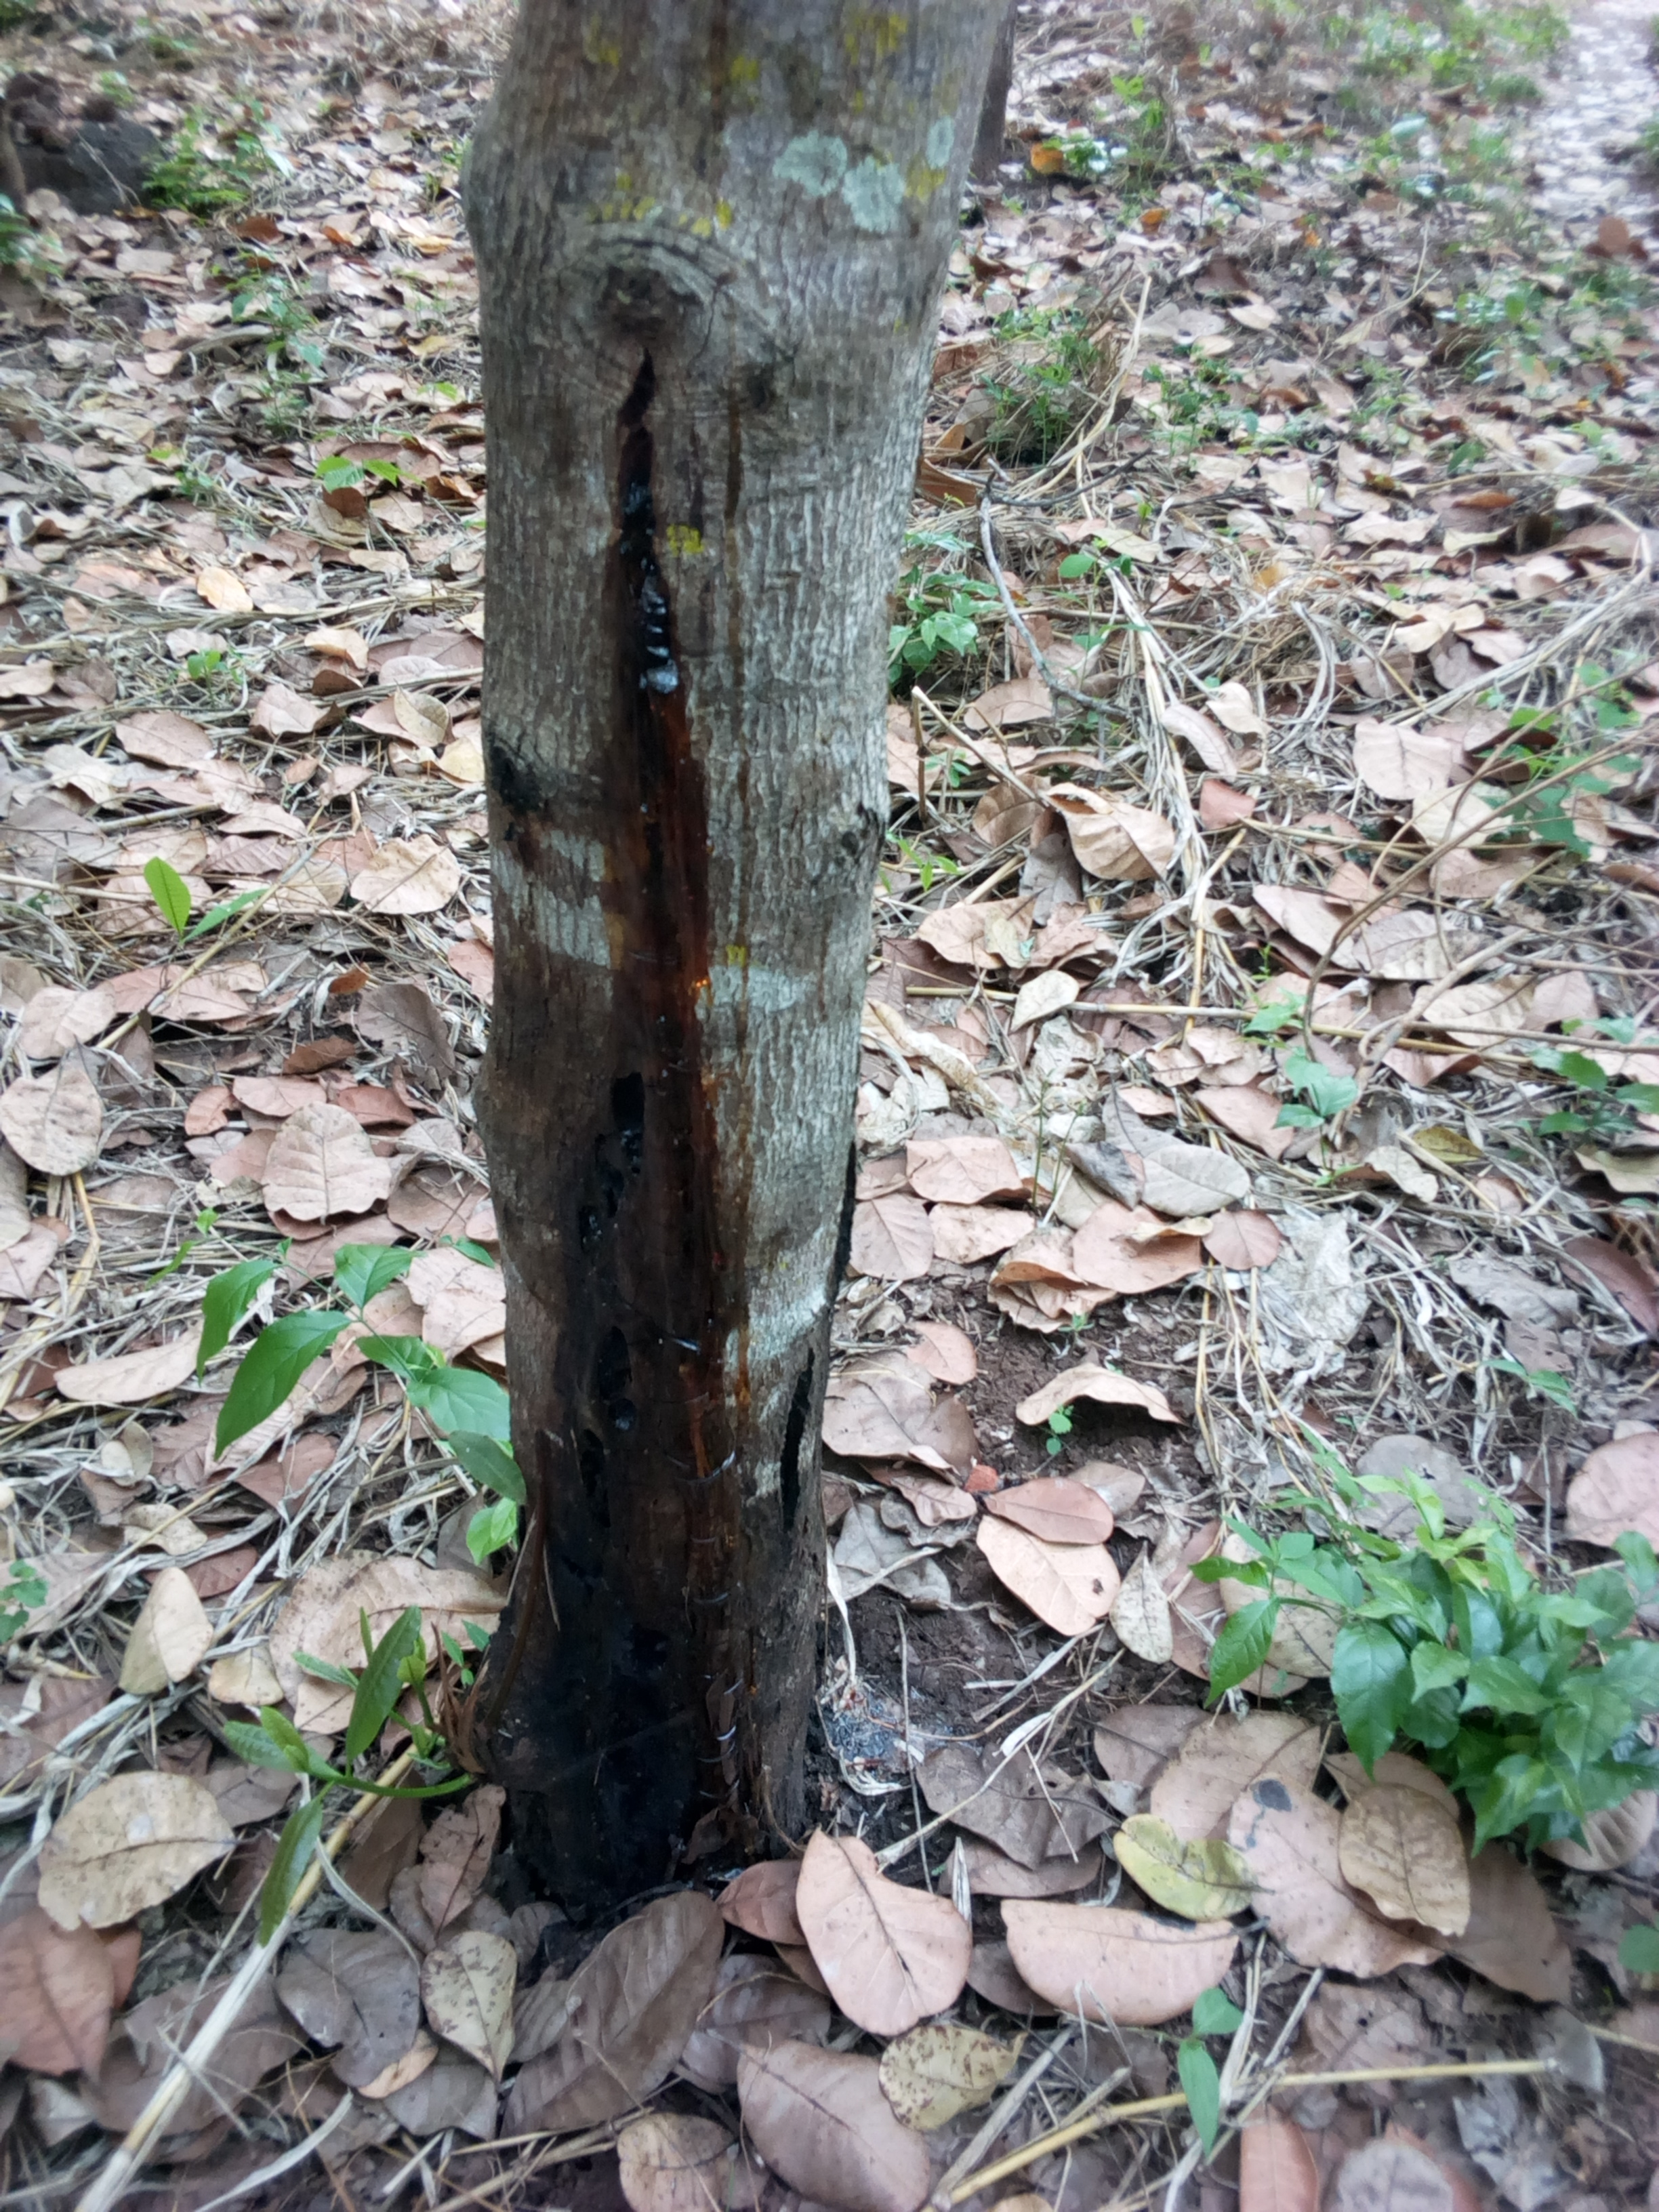Mecocorynus longiceps: (538, 354, 819, 1909)
